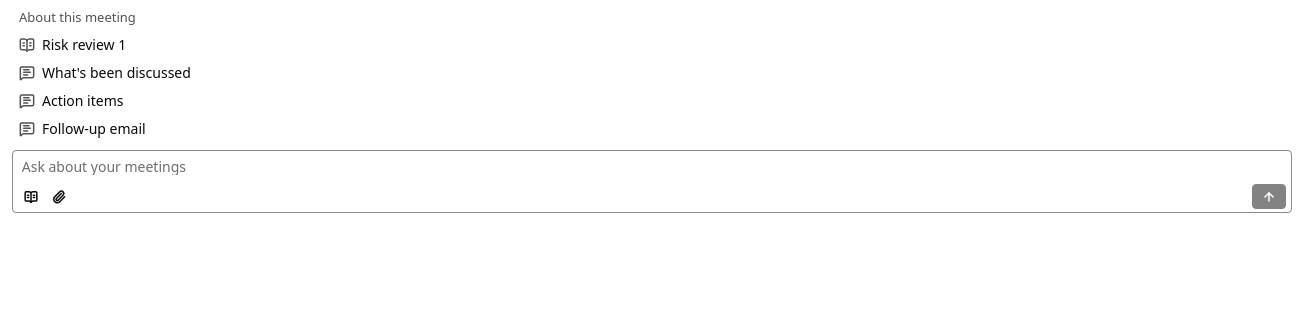
Scenario: running a saved prompt › a chip whose send fails leaves its prompt in the box, armed with its engine
Click the button with test id "BtnChatStarter".
click(84, 44)  # box x1=12 y1=30 x2=1292 y2=58
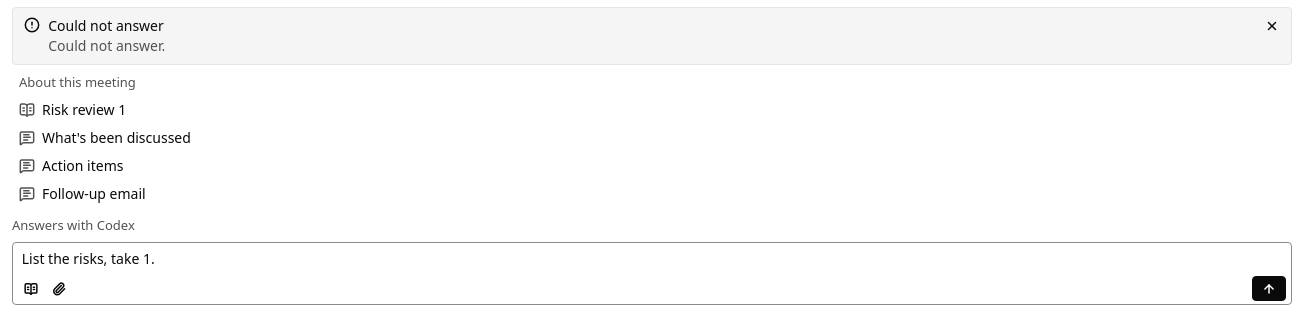
expect the text box with test id "TxtMeetingChat" holds "List the risks, take 1.": met, box x1=18 y1=244 x2=1286 y2=276
expect the text with test id "TxtChatPromptEngine" reads "Answers with Codex": met, box x1=12 y1=216 x2=135 y2=234
